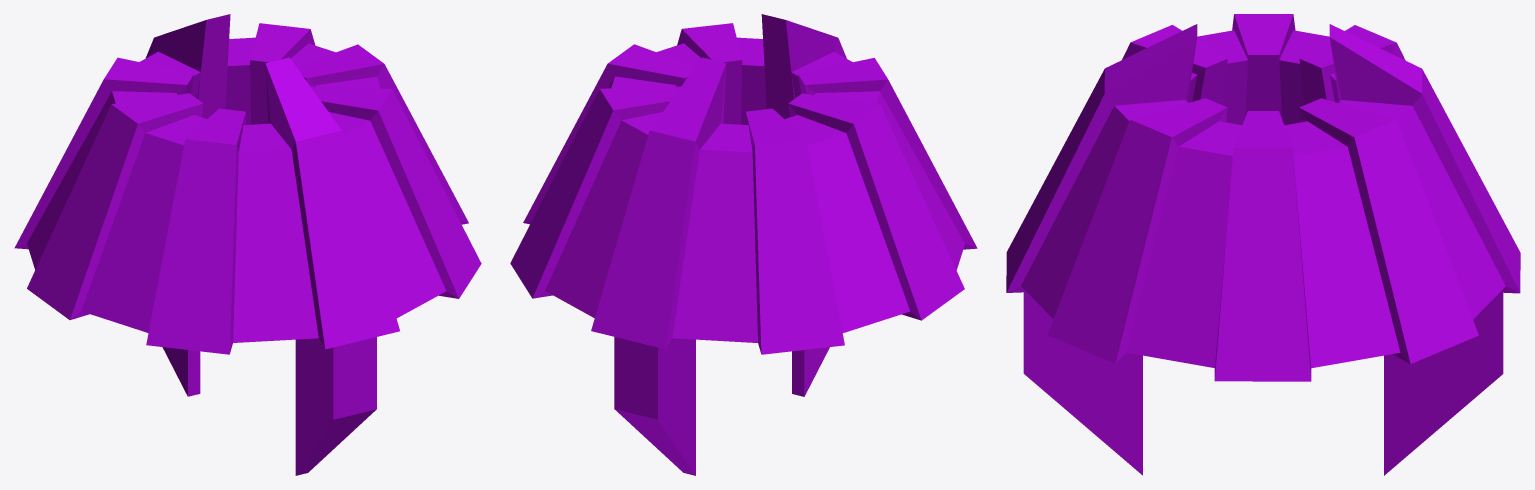
File: bottlecap.fbx
3 views of the same model, side by side, from view 1: azimuth 30°, elevation 25°; view 2: azimuth 150°, elevation 25°; view 3: azimuth 270°, elevation 25° (orthographic). The views are drawn at different scales.
Visible parts, largest first — view 1: Cone; view 2: Cone; view 3: Cone.
Boxes of the visible parts, box(x1,y1,x2,y2) form: Cone: box(14, 14, 481, 475); Cone: box(510, 14, 977, 475); Cone: box(1006, 14, 1520, 475).
Size of the model in its own units: 208 by 197 by 208.
